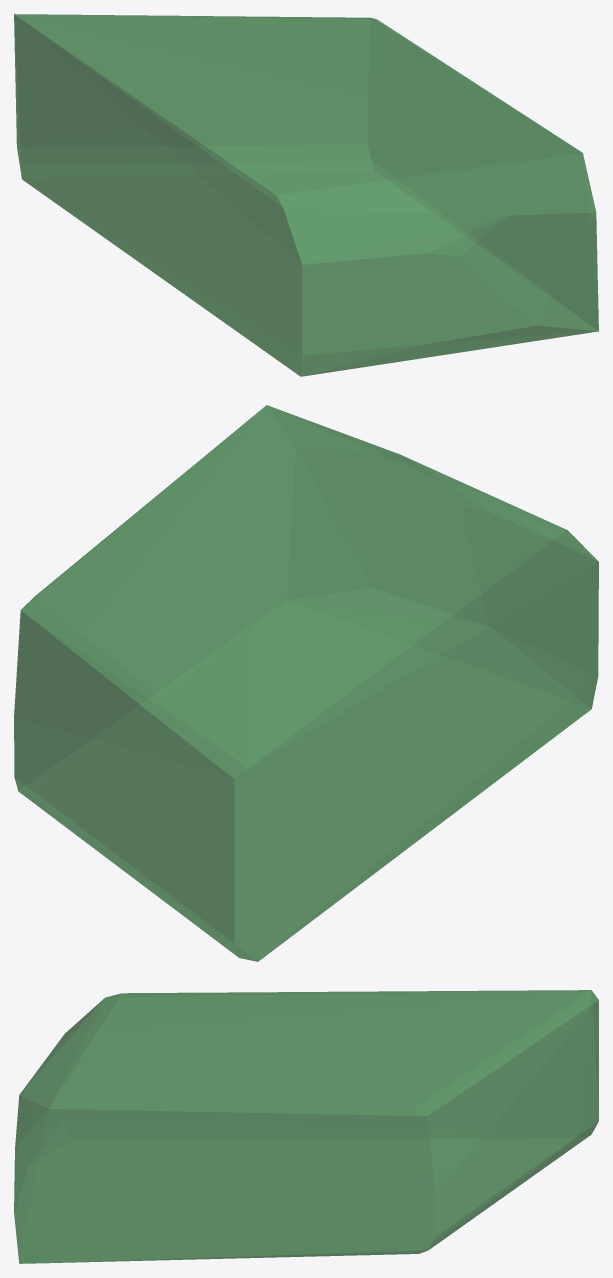
3 views of the same model, one above another, from view 1: azimuth 30°, elevation 25°; view 2: azimuth 150°, elevation 25°; view 3: azimuth 270°, elevation 25° (orthographic). The views are drawn at different scales.
Visible parts, largest first — view 1: Shape_IndexedFaceSet.003_Shape_IndexedFaceSet.466; view 2: Shape_IndexedFaceSet.003_Shape_IndexedFaceSet.466; view 3: Shape_IndexedFaceSet.003_Shape_IndexedFaceSet.466.
Boxes of the visible parts, <box> form: Shape_IndexedFaceSet.003_Shape_IndexedFaceSet.466: <box>14,14,598,376</box>; Shape_IndexedFaceSet.003_Shape_IndexedFaceSet.466: <box>14,405,598,961</box>; Shape_IndexedFaceSet.003_Shape_IndexedFaceSet.466: <box>14,990,598,1263</box>.
Bounding box in the file's own units: 0.1046 × 0.0601 × 0.2057.
